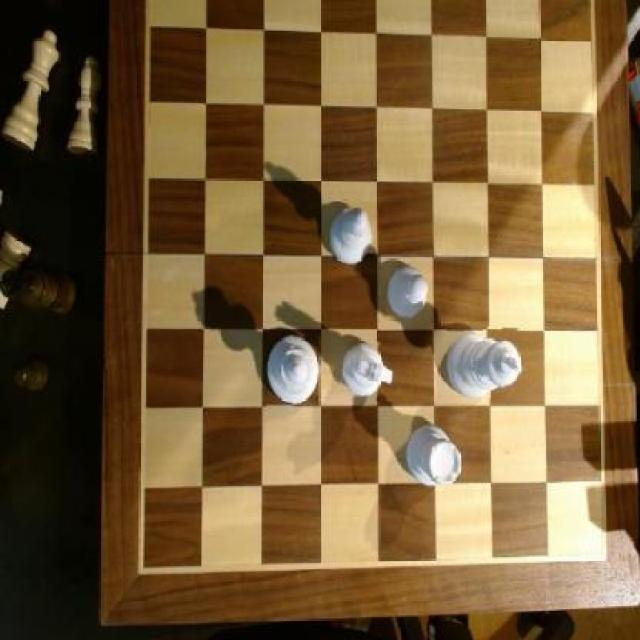black-rook: (331, 203, 377, 269)
white-bishop: (448, 328, 520, 402)
white-king: (339, 340, 396, 402)
white-knight: (388, 265, 432, 323)
white-pawn: (268, 336, 322, 408)
white-queen: (406, 422, 462, 493)
